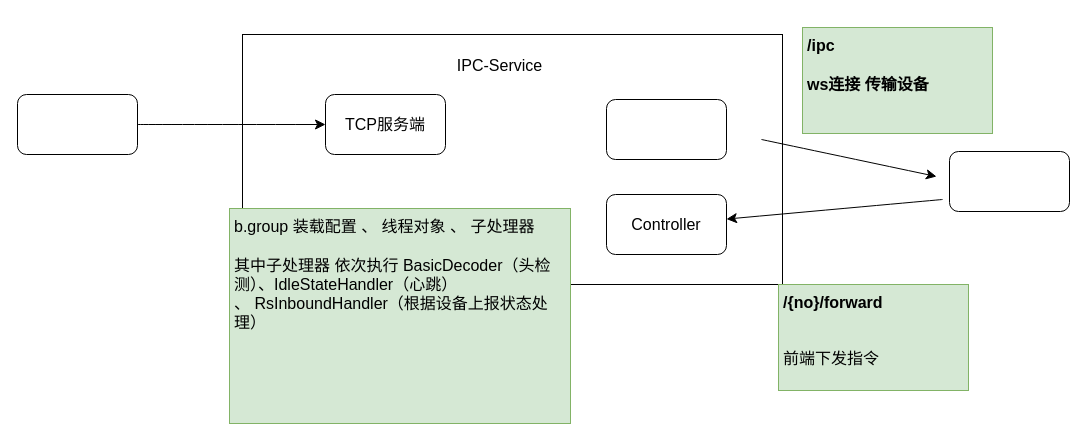
This 1087x441 diagram has some shape labels left out. Here are the shapes that lost their labels. From the top down, the centre of each, then its label:
point 77,124: 硬件
point 666,129: WebSocket
point 1009,181: IPC-VTE
